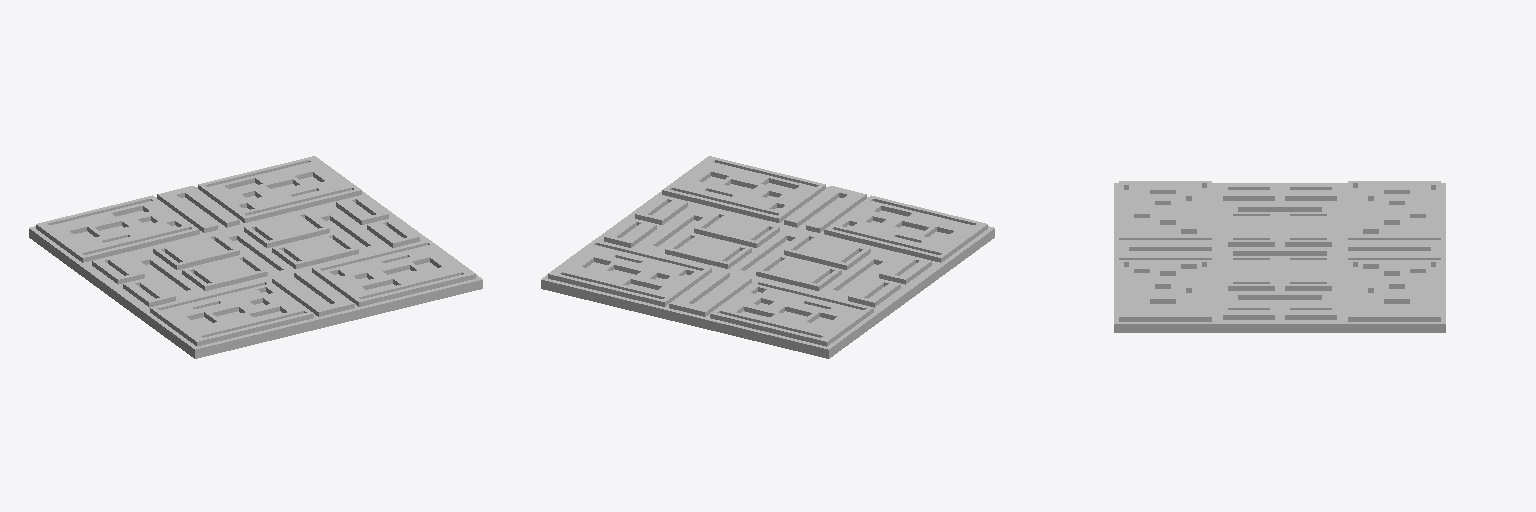
Rendered from Temple Tile.obj.
The picture shows the model from 3 angles: view 1: azimuth 30°, elevation 25°; view 2: azimuth 150°, elevation 25°; view 3: azimuth 270°, elevation 25°; orthographic projection.
Visible parts, largest first — view 1: object 1; view 2: object 1; view 3: object 1.
Part boxes in pixels (x1,y1,x2,y2): object 1: (29, 156, 482, 358); object 1: (541, 156, 994, 358); object 1: (1114, 181, 1445, 332).
Bounding box in the file's own units: 6.4 × 0.3 × 6.4.